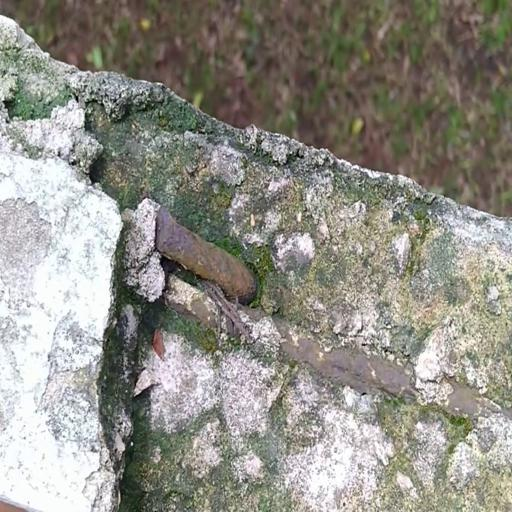spalling: (0, 12, 512, 512)
